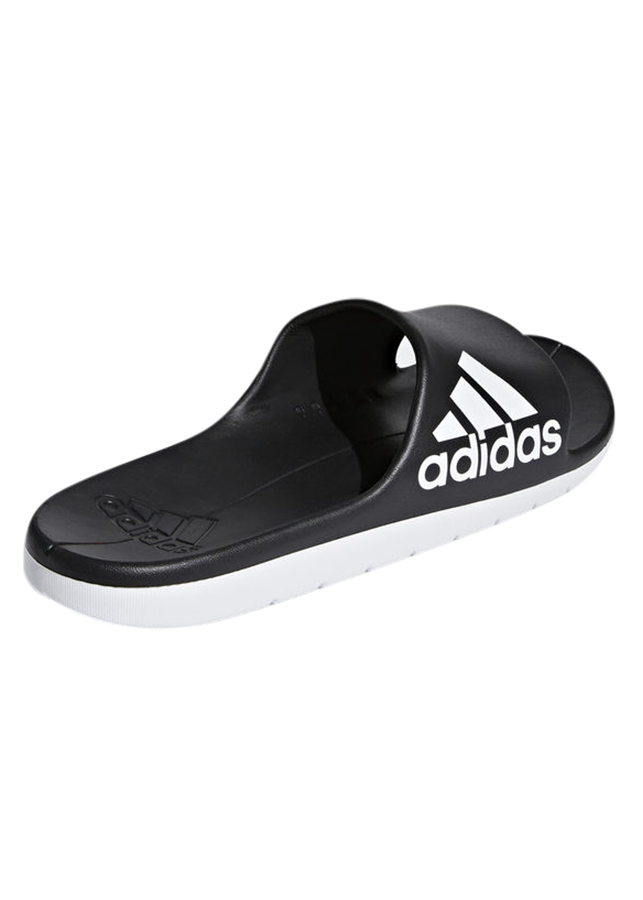Adidas: (414, 345, 565, 501)
